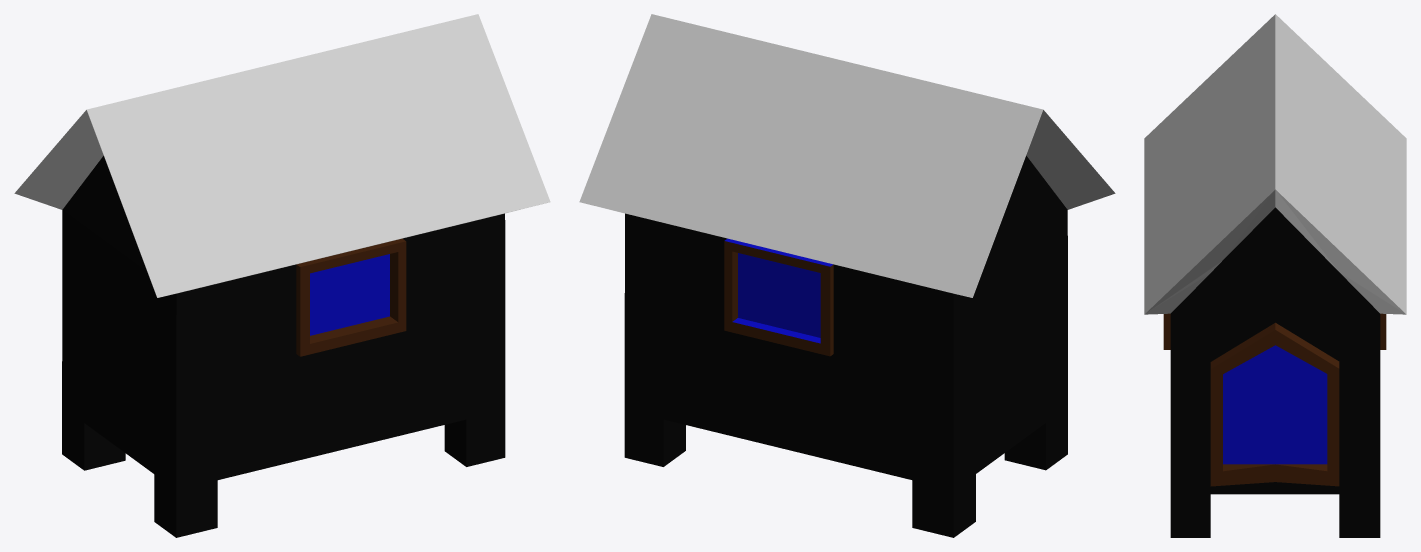
File: Farm_Stabbur_1.fbx
3 views of the same model, side by side, from view 1: azimuth 30°, elevation 25°; view 2: azimuth 150°, elevation 25°; view 3: azimuth 270°, elevation 25° (orthographic). The views are drawn at different scales.
Visible parts, largest first — view 1: Farm_Stabbur_1; view 2: Farm_Stabbur_1; view 3: Farm_Stabbur_1.
Part boxes in pixels (x1,y1,x2,y2): Farm_Stabbur_1: [14, 14, 550, 537]; Farm_Stabbur_1: [579, 14, 1115, 537]; Farm_Stabbur_1: [1144, 14, 1406, 537].
Size of the model in its own units: 682 by 654 by 429.
